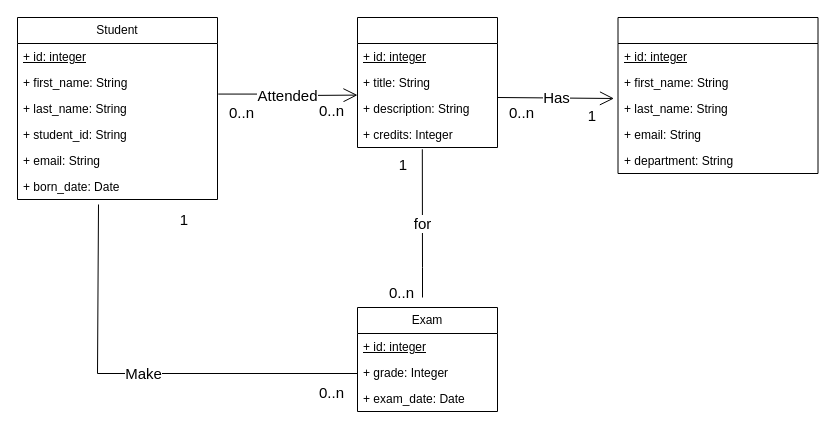
This 836x432 diagram has some shape labels left out. Here are the shapes that lost their labels. From the top down, the box of each, then its label:
(356, 16, 498, 148): Course
(617, 16, 818, 174): Teacher
